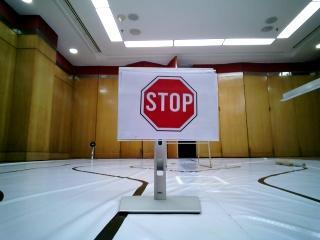stop: (117, 52, 207, 144), (311, 161, 314, 161)
